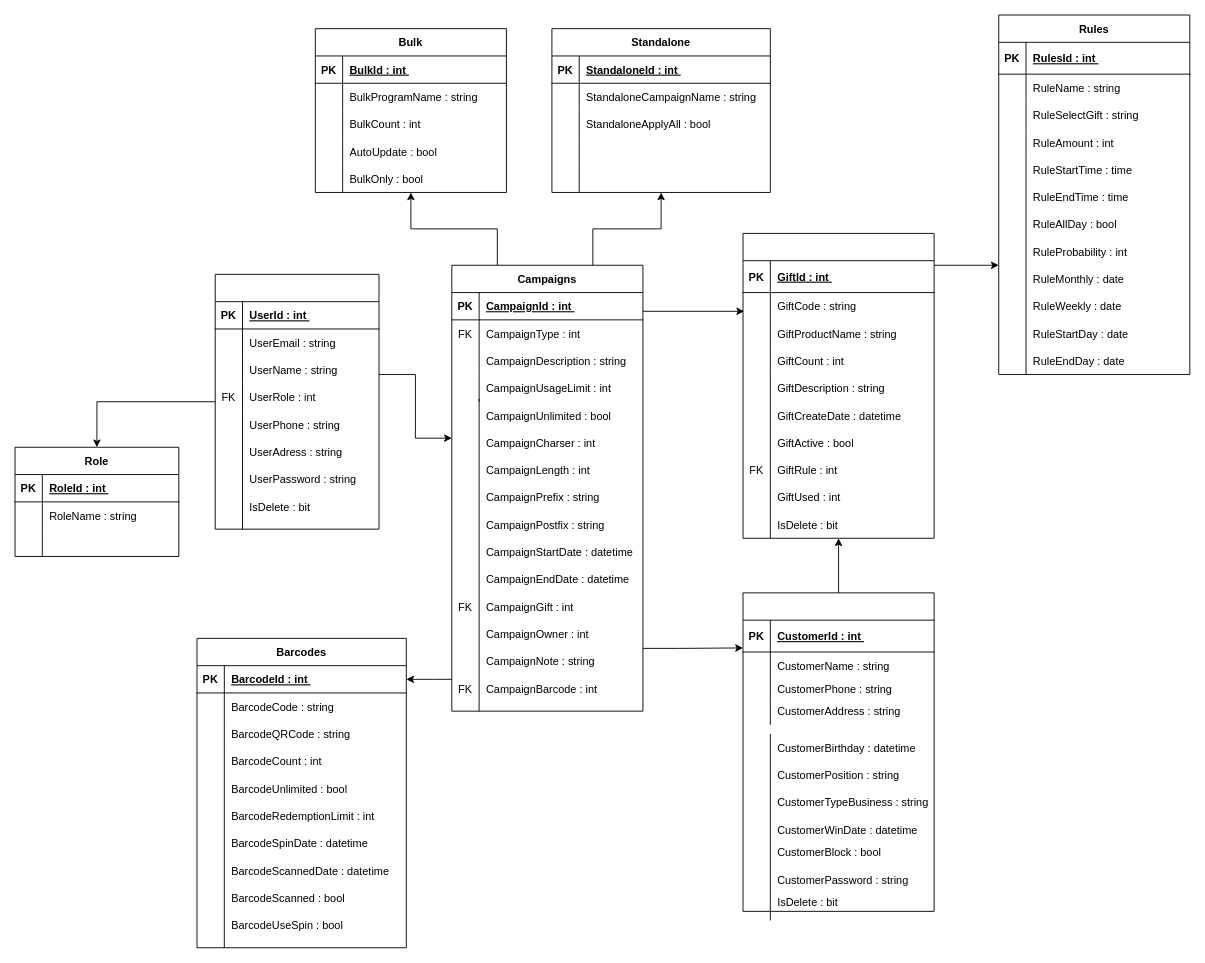
This 1205x963 diagram has some shape labels left out. The shapes that lost their labels are listed below. From the top down, each one's box as (x1, y1, x2, y2) in pixels, then its label:
(214, 273, 379, 529): Users
(742, 233, 934, 538): Gifts
(742, 592, 934, 911): Customers
